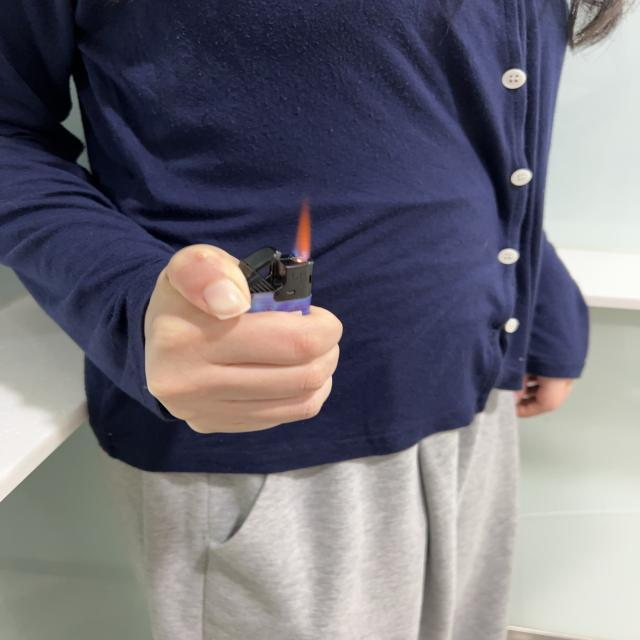fire: (288, 200, 316, 260)
